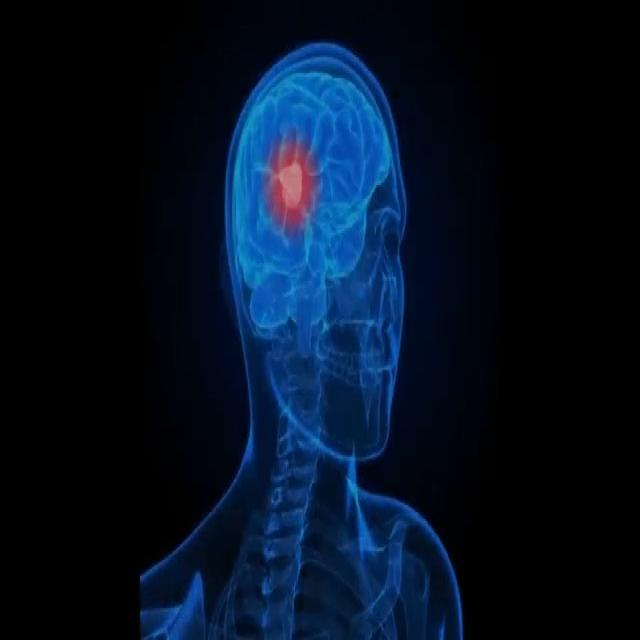tumor: (270, 122, 316, 238)
